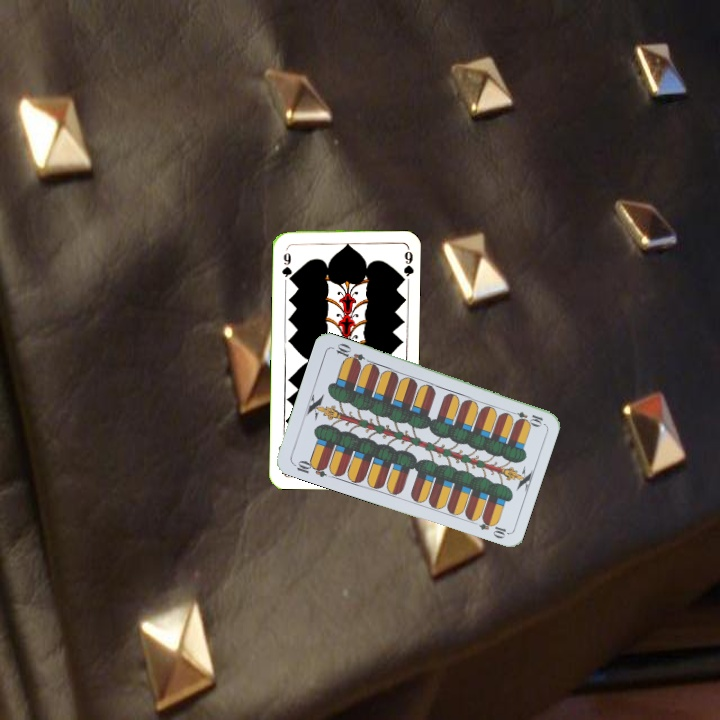E10: (289, 456, 330, 480), (505, 407, 545, 428)
G9: (278, 244, 295, 284)
